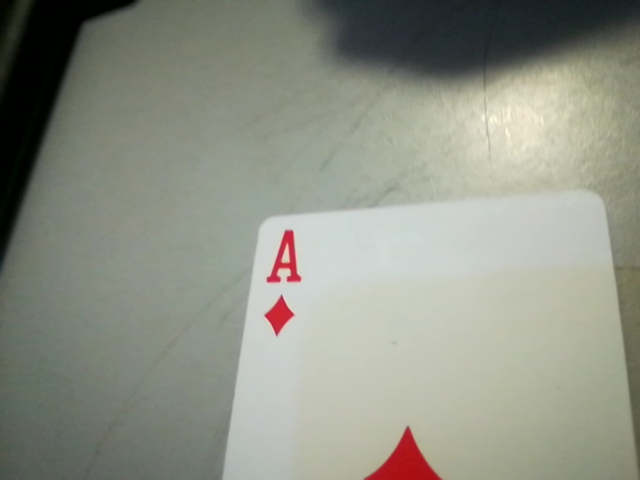fk a: (251, 224, 311, 341)
